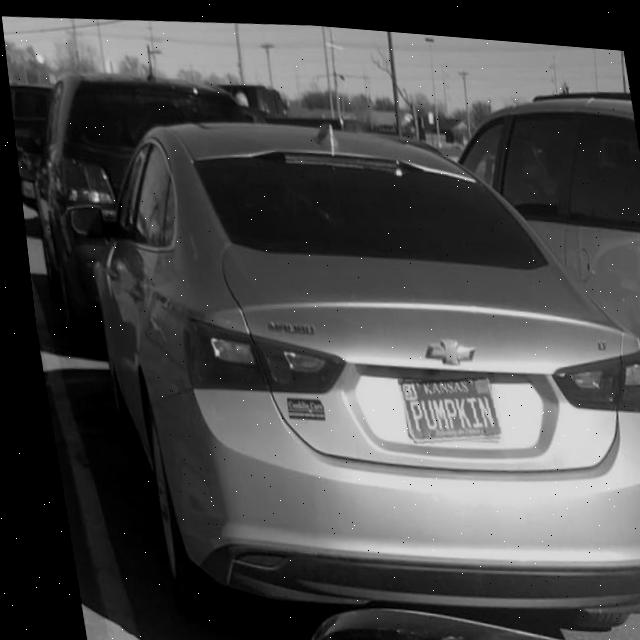LicensePlate: (390, 364, 495, 437)
